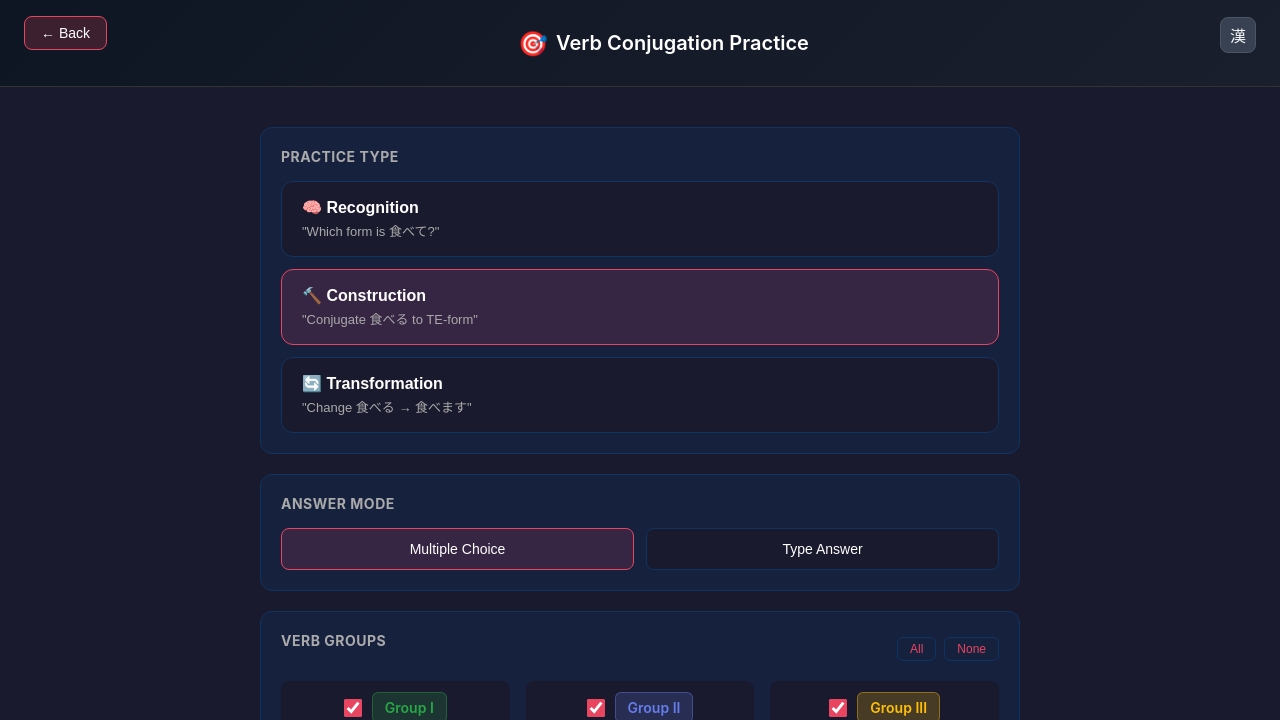
Test: VerbMode › Group Selection › should deselect all groups when None is clicked
Click the button "None" at (972, 648), box [944,636,999,660]
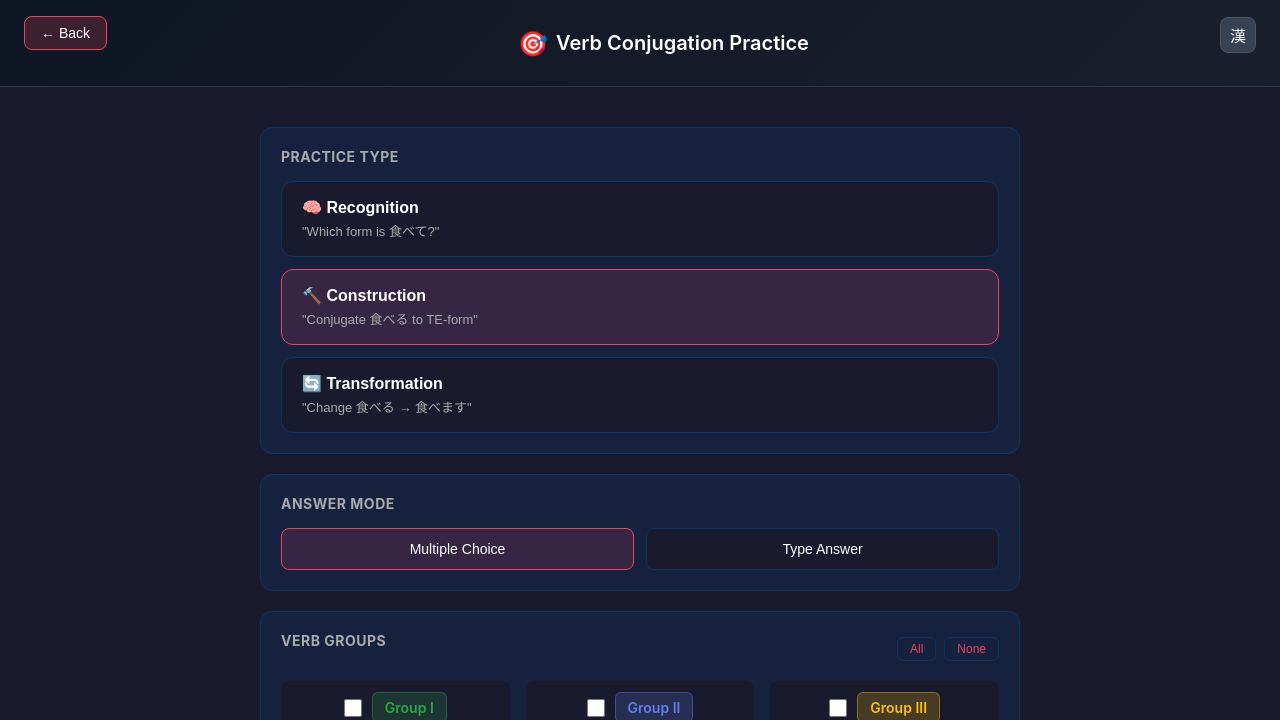
Now the checkbox labelled "Group I" is not checked, box [344,698,362,716]
Now the checkbox labelled "Group II" is not checked, box [587,698,605,716]
Now the checkbox labelled "Group III" is not checked, box [829,698,847,716]
